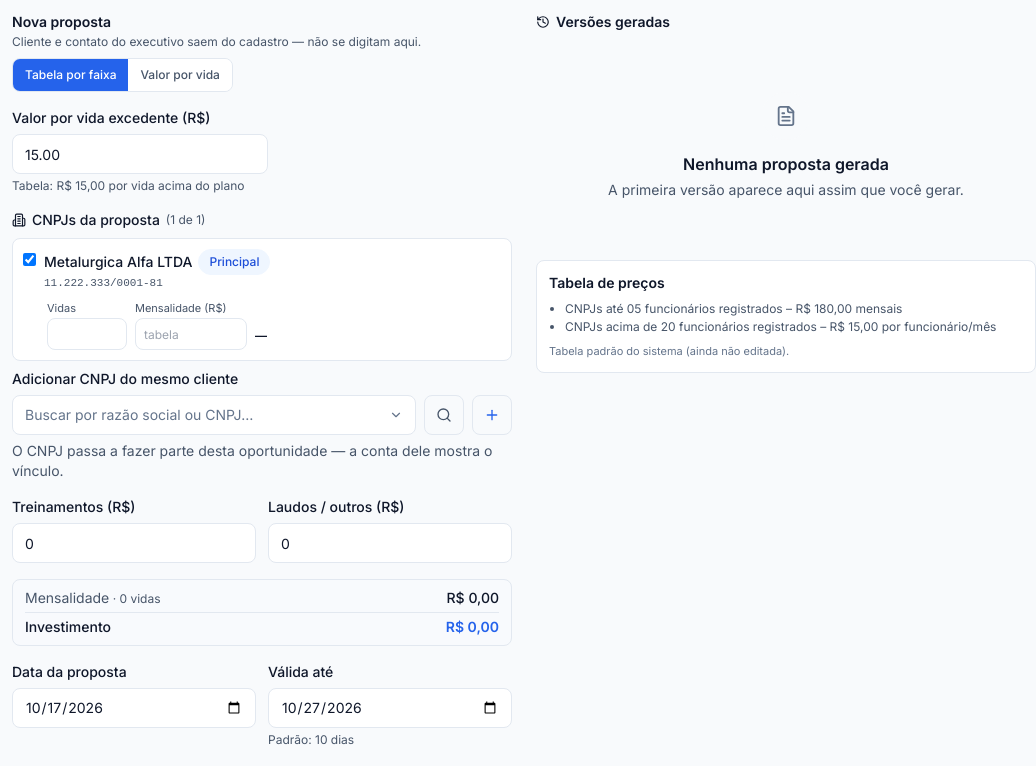
Test: AbaProposta — formulário › mudar a data da proposta empurra a validade junto
The image size is (1036, 766).
In the date field labelled "Data da proposta": (134, 708) [12,688,256,728], type "2026-08-26"
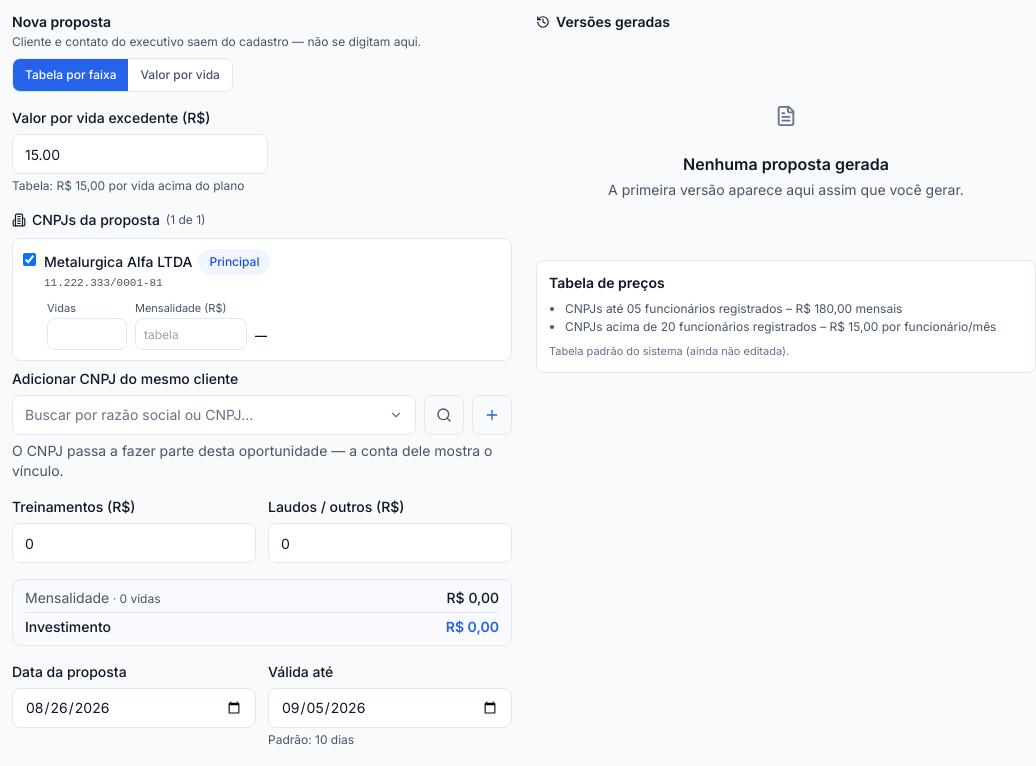
Check: the date field labelled "Válida até" holds "2026-09-05", box [268,688,512,728]
